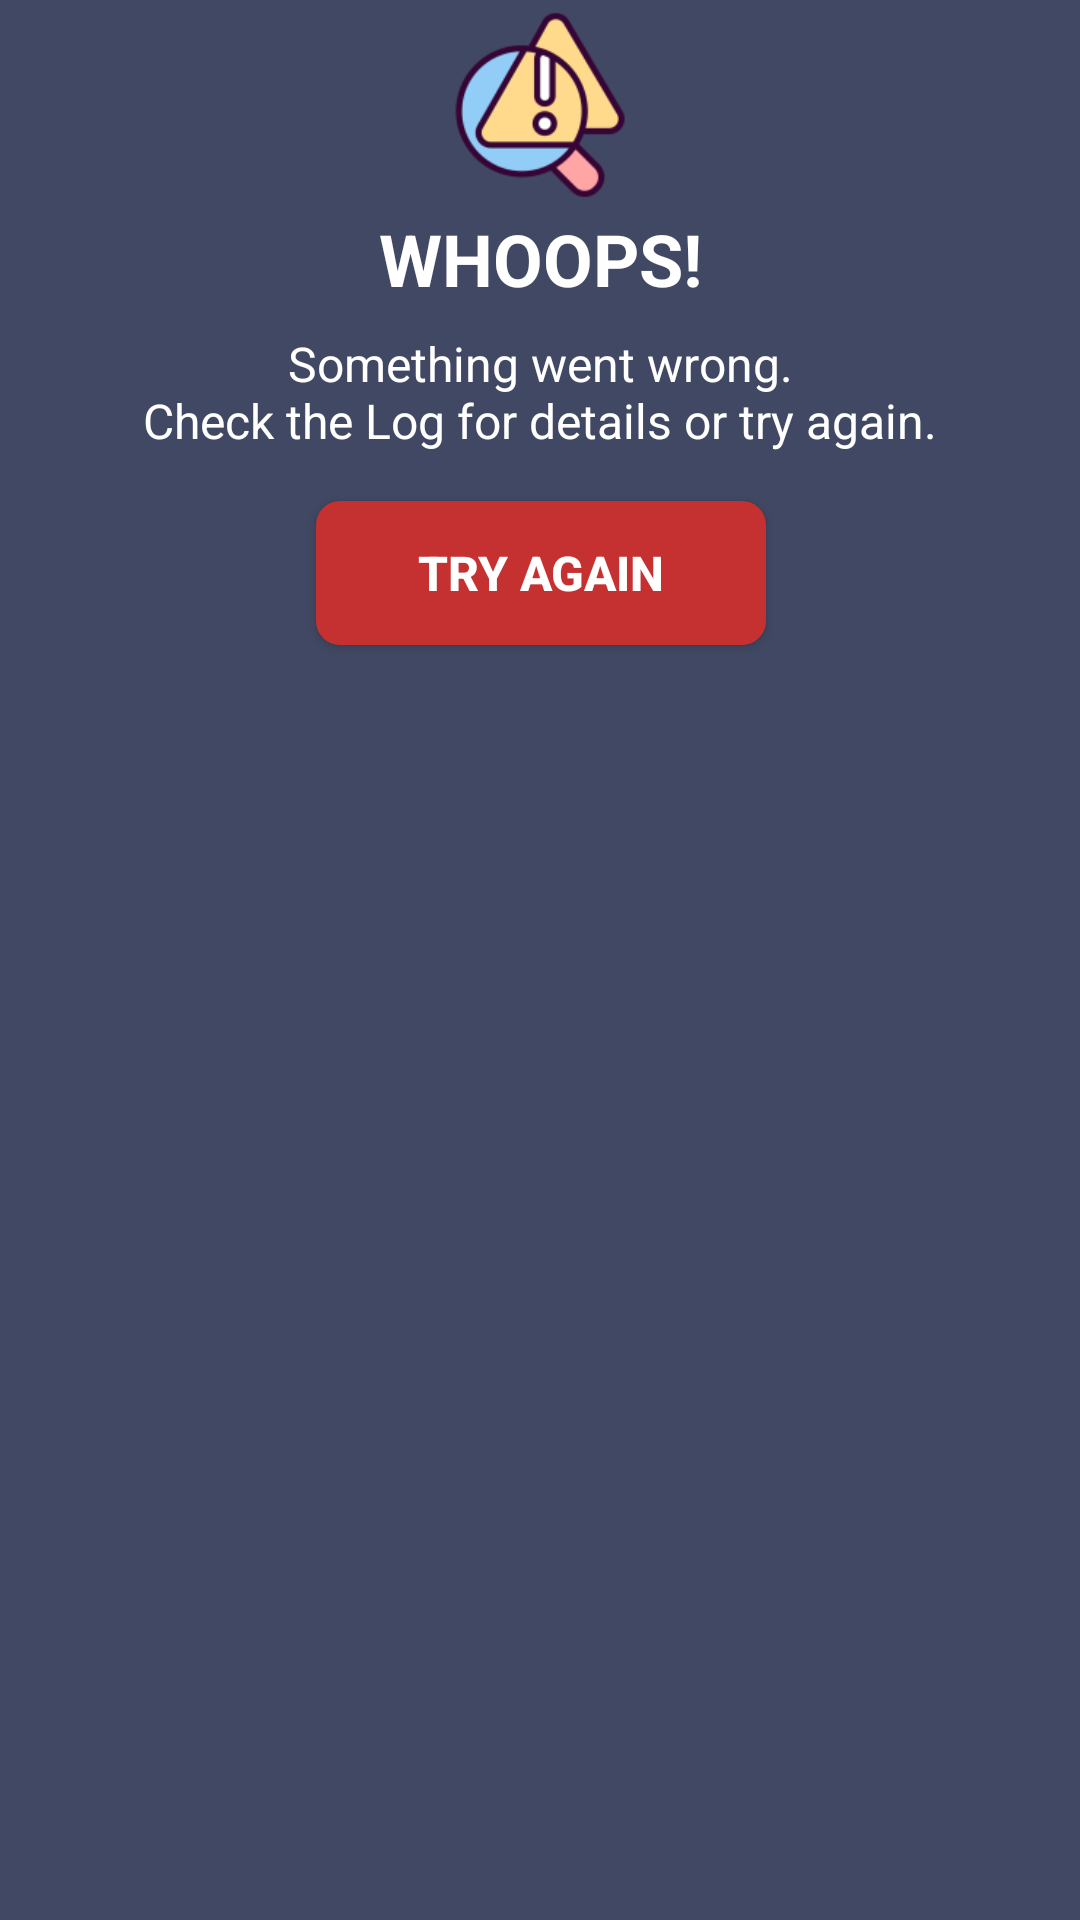

Icon bounding boxes for this 1080*1920 phone screenshot, format (x1, y1, x2, y2):
error: (456, 13, 625, 197)
